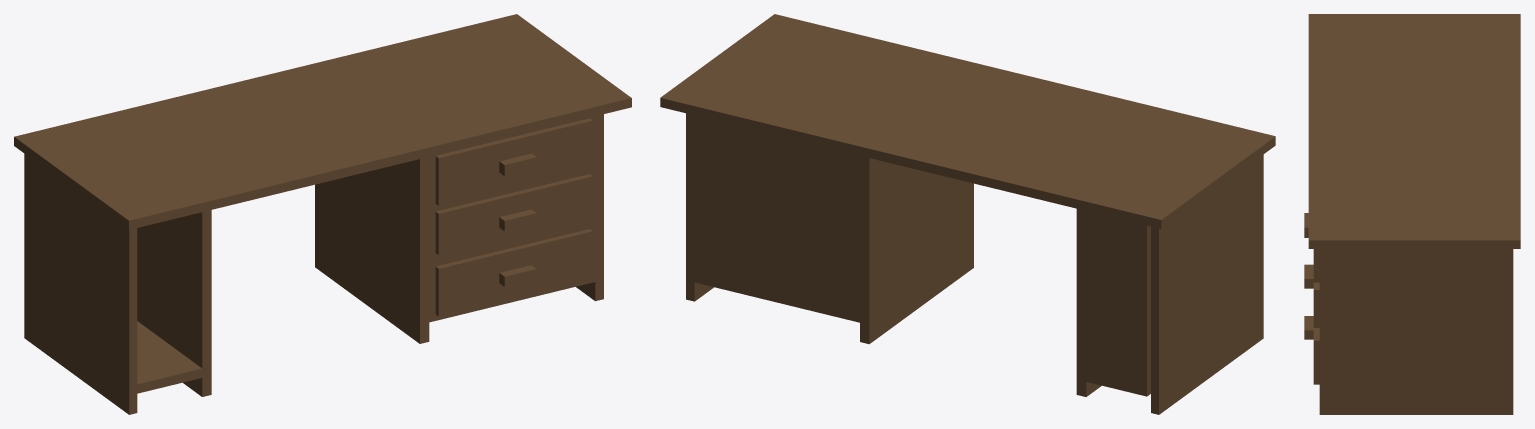
The model's file is mesa.FBX.
3 renders of one model, left to right at view 1: azimuth 30°, elevation 25°; view 2: azimuth 150°, elevation 25°; view 3: azimuth 270°, elevation 25°, orthographic. The views are drawn at different scales.
Parts seen in each view (by area): view 1: Cube; view 2: Cube; view 3: Cube.
Boxes of the visible parts, <box> form: Cube: <box>14,14,631,414</box>; Cube: <box>660,14,1275,414</box>; Cube: <box>1304,14,1520,414</box>.
Bounding box in the file's own units: 152 × 57.78 × 61.38.
